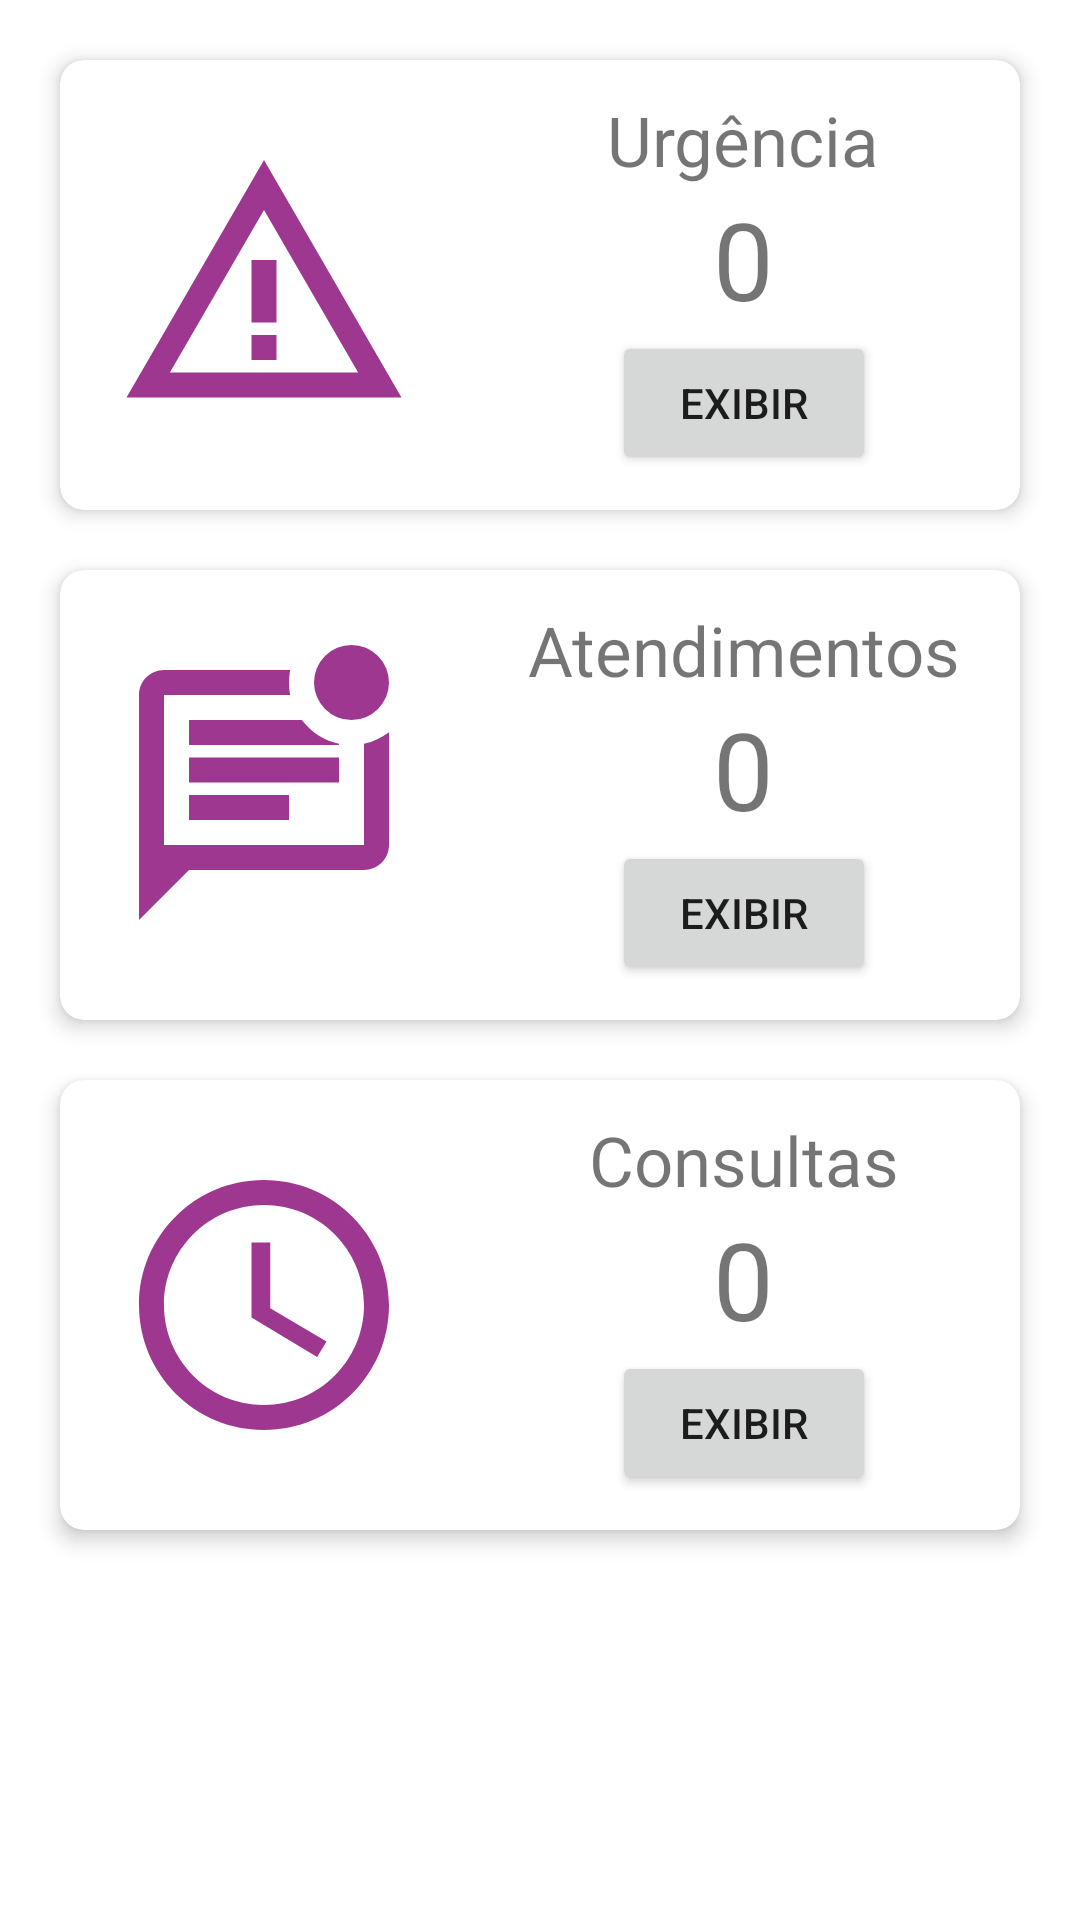

Icon bounding boxes for this 1080 × 1920 phone screenshot, format (x1,y1,x2,y2):
chat: (139,645,389,920)
emergency: (126,160,402,398)
